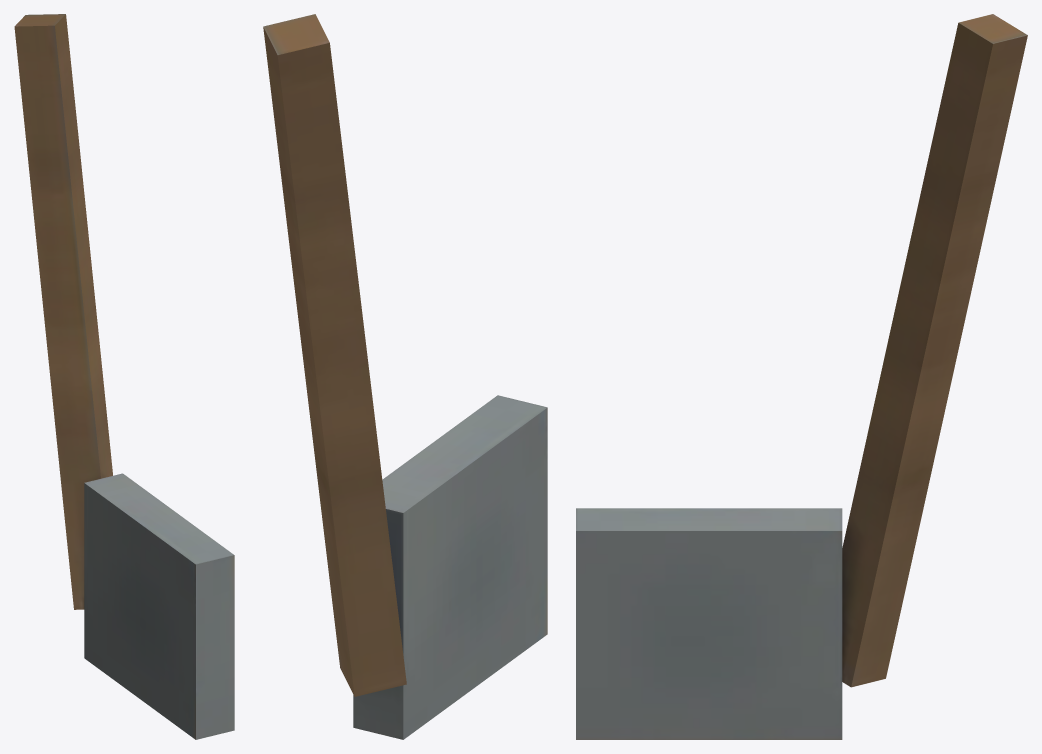
File: life-tool-axe.glb
The picture shows the model from 3 angles, left to right: view 1: azimuth 30°, elevation 25°; view 2: azimuth 150°, elevation 25°; view 3: azimuth 270°, elevation 25°; orthographic projection. The views are drawn at different scales.
Visible parts, largest first — view 1: life-tool-axe; view 2: life-tool-axe; view 3: life-tool-axe.
Part boxes in pixels (x1,y1,x2,y2): life-tool-axe: (14,14,234,739); life-tool-axe: (263,14,547,739); life-tool-axe: (576,14,1027,739).
Bounding box in the file's own units: 0.008 × 0.0878 × 0.0509.
Materials: 1 (1 with a texture image).
